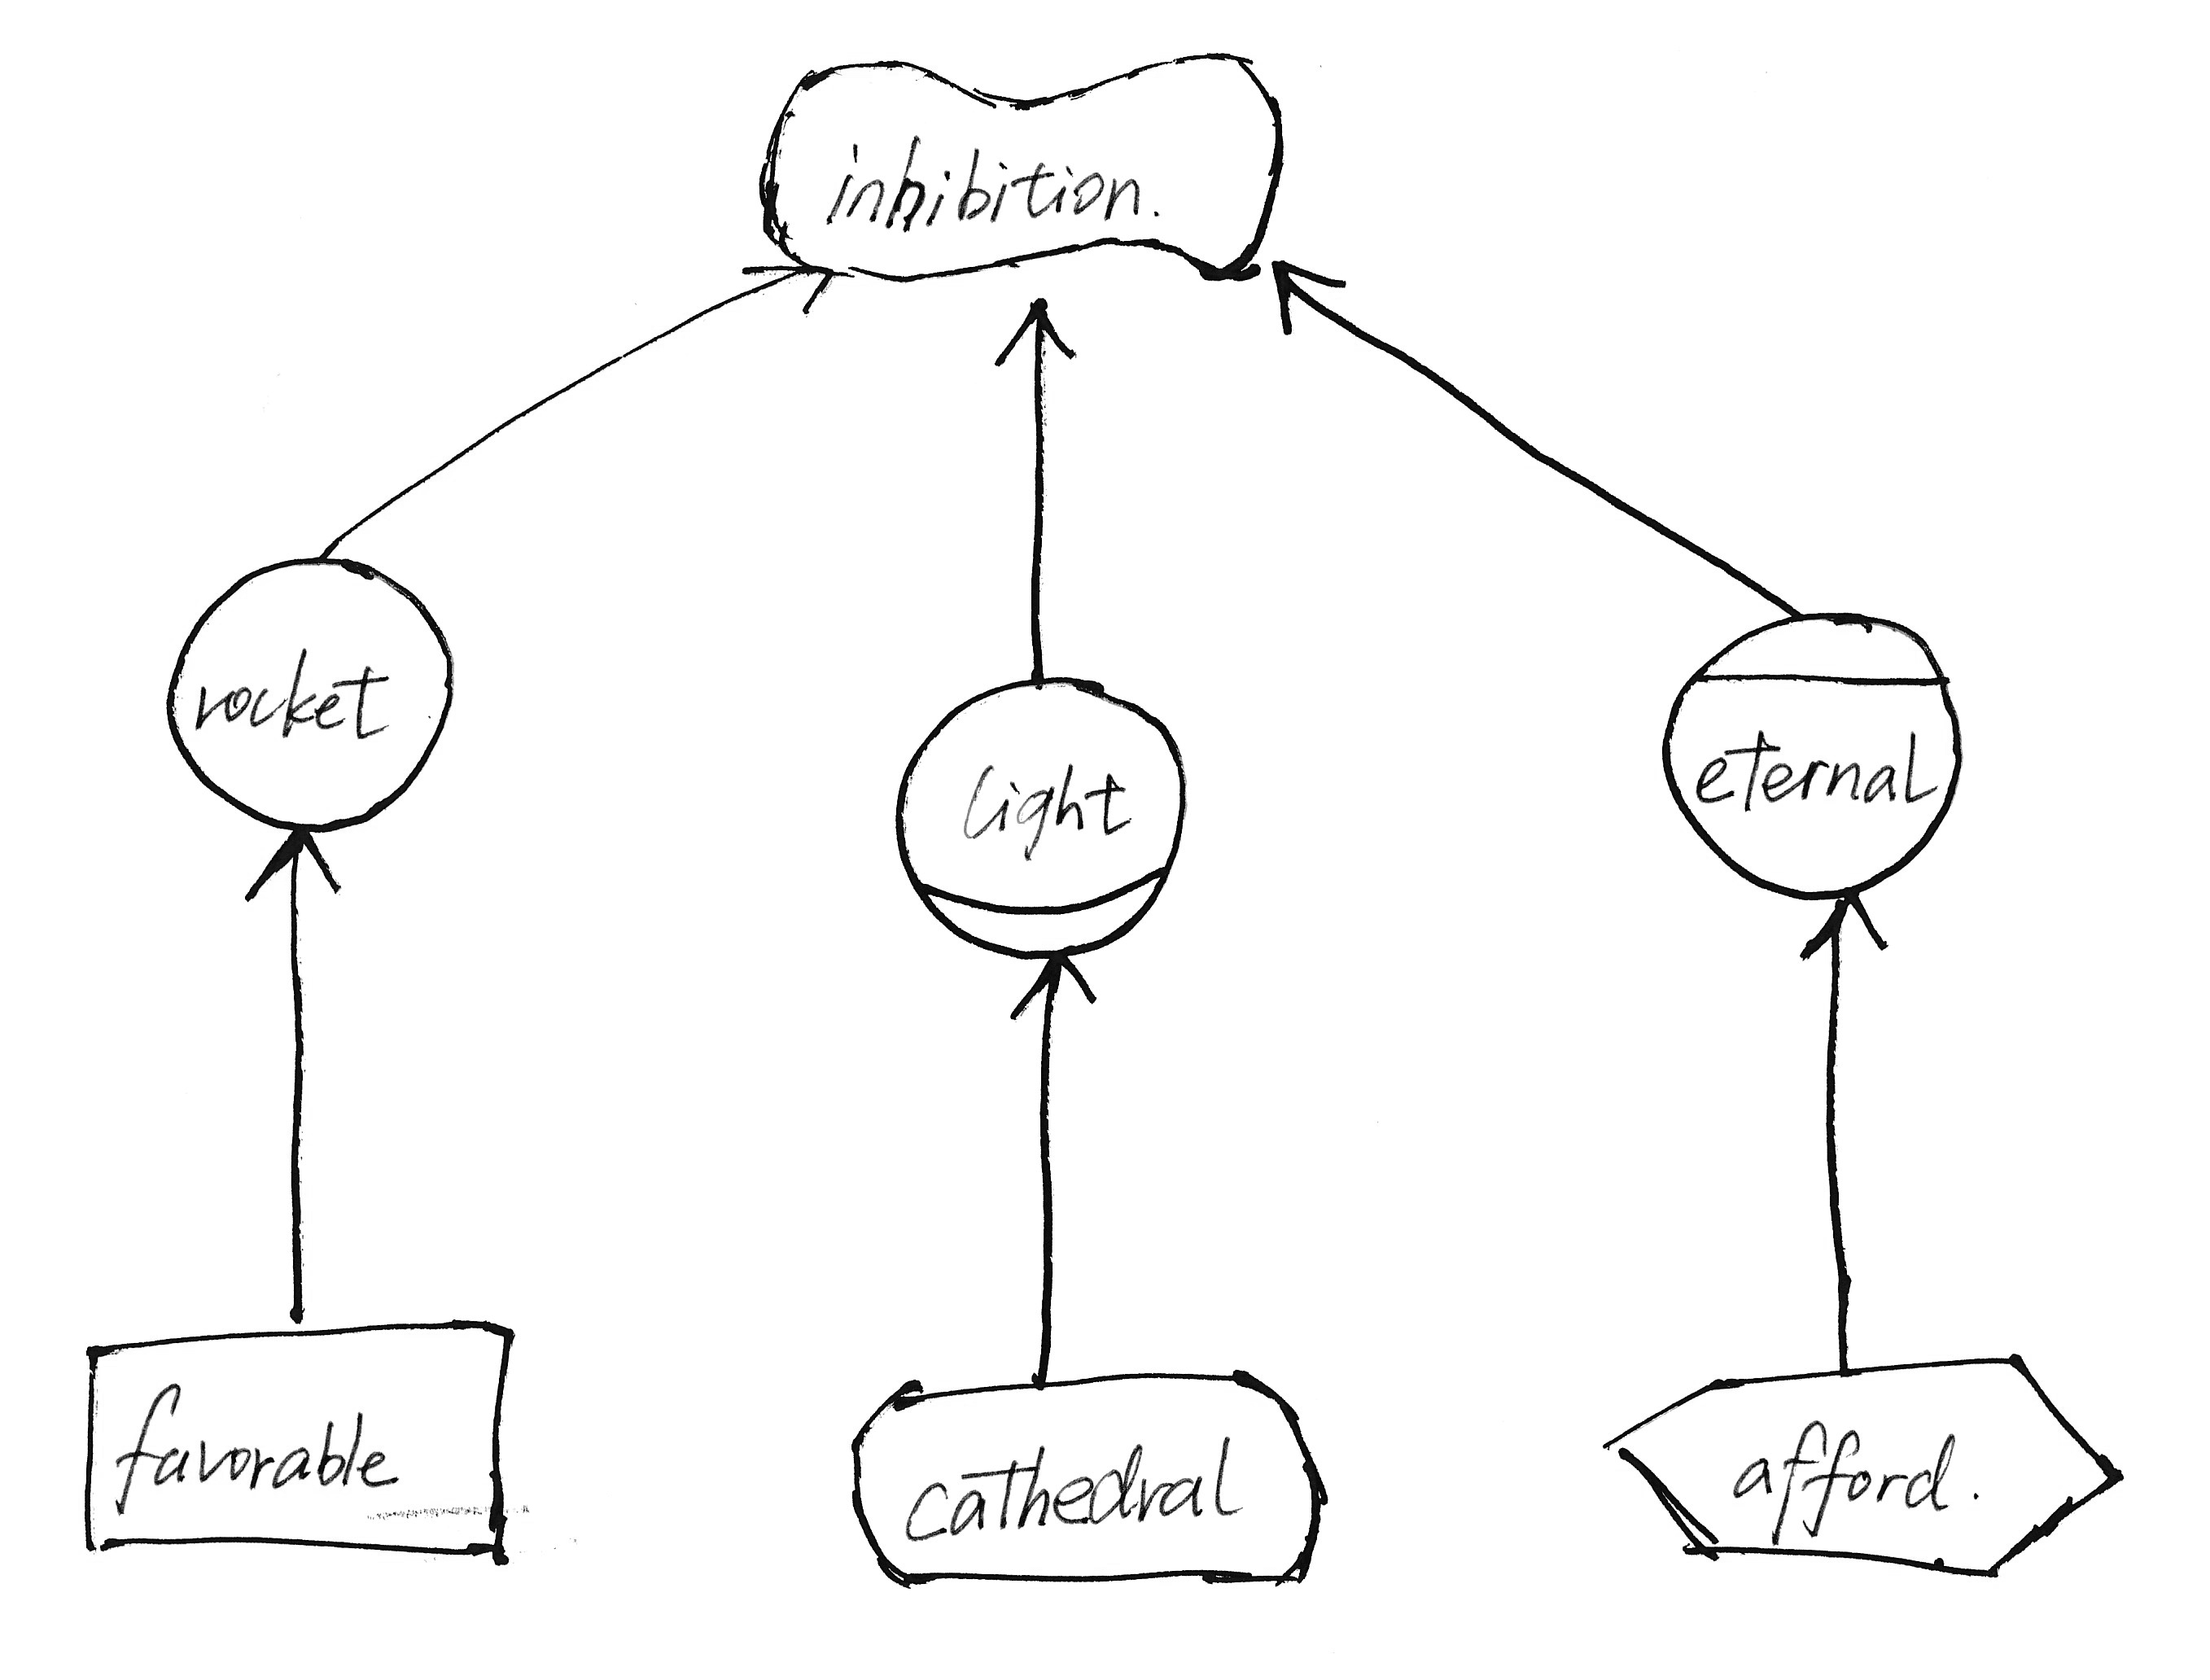actor: (150, 544, 470, 845)
agent: (1643, 591, 1982, 909)
arrow: (981, 286, 1091, 376), (1793, 879, 1901, 967), (999, 942, 1107, 1029), (247, 815, 344, 911), (1266, 249, 1357, 342), (736, 251, 846, 325)
goal: (837, 1354, 1340, 1609)
quality: (745, 35, 1304, 298)
resource: (71, 1299, 540, 1585)
role: (881, 656, 1200, 978)
task: (1583, 1334, 2141, 1592)
